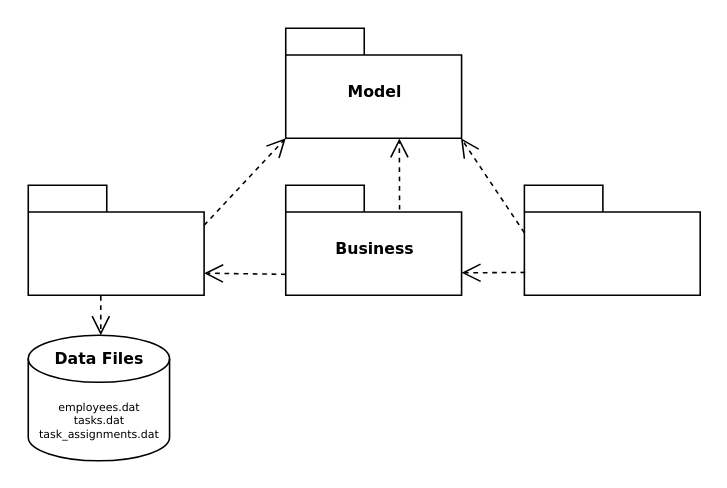
Image size: 727x488. Some labels were removed from this diagram. The shapes that lost their labels are listed below. From the top down, each one's centre as x and y in pixels, then its label:
pixel 115 239: Persistence
pixel 611 239: Presentation
